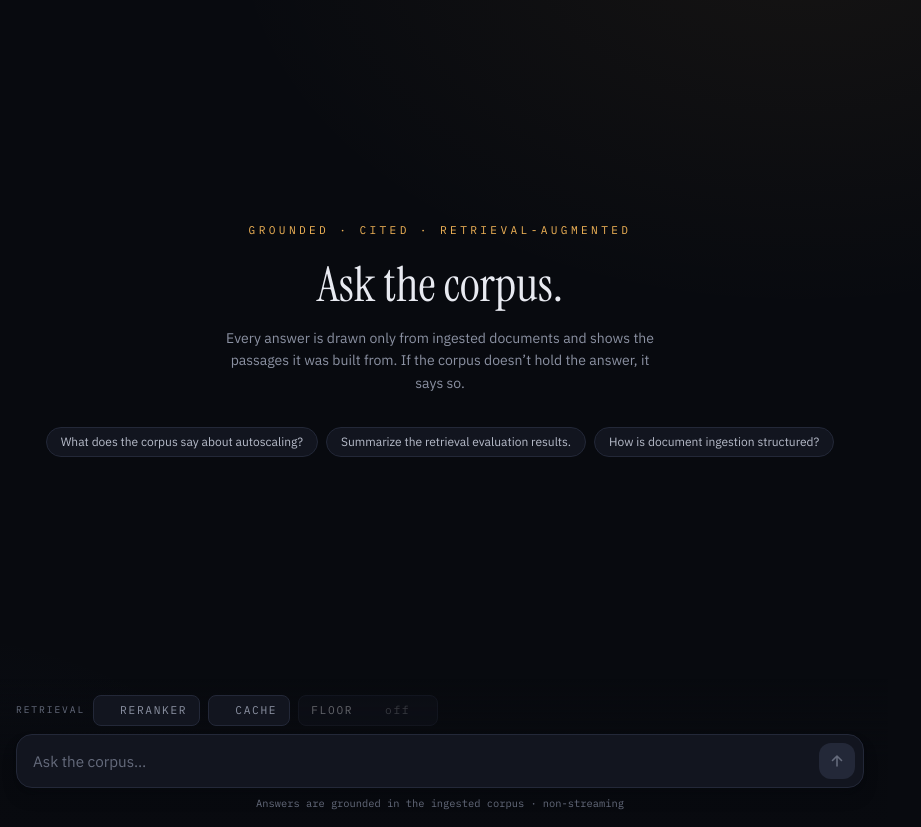
Scenario: ChatPage › renders the grounded answer with its cited and seen sources
In the text box named "Ask a question": (418, 761) x1=25 y1=743 x2=811 y2=779, type "How does autoscaling work?"
Then press Enter
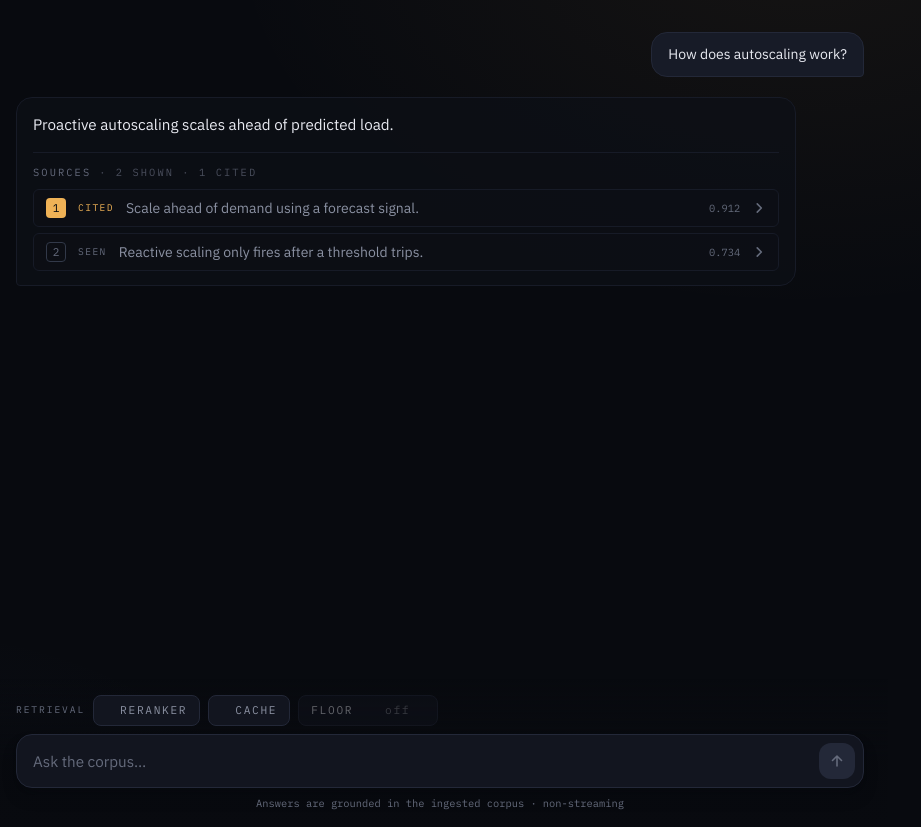
Expected: the text "How does autoscaling work?" is shown, x1=651 y1=32 x2=864 y2=77
Expected: the text "Proactive autoscaling scales ahead of predicted load." is shown, x1=33 y1=114 x2=394 y2=134
Expected: the text "· 2 shown · 1 cited" is shown, x1=99 y1=166 x2=257 y2=181
